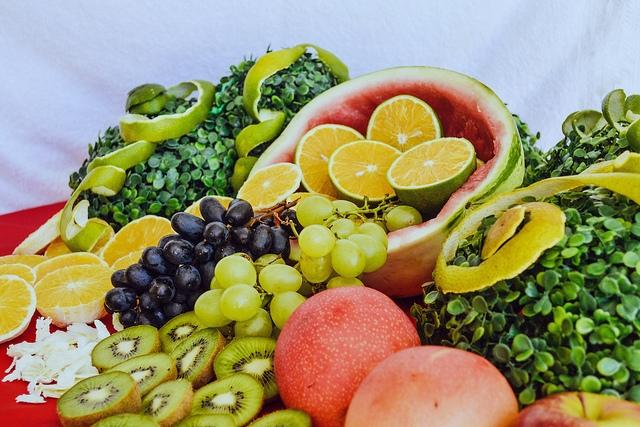apple: (274, 285, 421, 427), (345, 345, 519, 427), (510, 391, 640, 427)
grape: (346, 234, 386, 273), (220, 284, 260, 322), (194, 289, 233, 327), (214, 255, 256, 289), (258, 263, 304, 294), (270, 291, 306, 330), (331, 239, 366, 278), (296, 195, 337, 227), (298, 224, 334, 258), (300, 250, 334, 284), (235, 307, 272, 338), (171, 212, 209, 242), (141, 246, 177, 276), (254, 254, 286, 287), (385, 205, 423, 232), (358, 221, 388, 252), (124, 264, 157, 291), (104, 286, 137, 312), (200, 196, 228, 226), (163, 238, 195, 264), (173, 265, 201, 294), (149, 274, 176, 304), (250, 224, 274, 257), (224, 200, 253, 227), (268, 226, 290, 261), (280, 209, 304, 237), (328, 218, 359, 239), (215, 240, 242, 264), (332, 200, 360, 223), (203, 221, 229, 245), (198, 261, 217, 289), (326, 276, 364, 290), (230, 224, 252, 248), (186, 286, 208, 310), (157, 234, 191, 249), (134, 310, 159, 330), (194, 241, 217, 262), (250, 212, 276, 230), (139, 291, 159, 314), (165, 300, 188, 320), (296, 273, 313, 296), (110, 269, 130, 288), (151, 308, 169, 329), (119, 308, 137, 328), (230, 252, 253, 262), (210, 276, 226, 290), (228, 198, 244, 209)
kiwi: (57, 371, 142, 427), (213, 334, 280, 405), (187, 372, 264, 427), (99, 352, 178, 398), (170, 328, 228, 390), (92, 324, 162, 374), (137, 379, 193, 427), (158, 310, 210, 354), (246, 409, 312, 427), (90, 412, 160, 427), (175, 414, 236, 426)
lime: (231, 43, 352, 193), (386, 137, 476, 217), (120, 80, 216, 142), (34, 262, 116, 328), (294, 124, 366, 199), (328, 140, 402, 210), (366, 95, 444, 152), (99, 214, 179, 267), (236, 162, 302, 213), (32, 252, 108, 288), (183, 195, 234, 241), (286, 192, 340, 212), (0, 263, 38, 287), (1, 254, 49, 268)
orange: (387, 136, 478, 222), (328, 139, 402, 218), (294, 124, 366, 200), (33, 263, 116, 328), (366, 95, 444, 153), (99, 214, 179, 267), (236, 162, 302, 215), (44, 216, 115, 258), (32, 252, 109, 287), (0, 274, 37, 344), (183, 195, 234, 221), (0, 264, 36, 287), (110, 250, 144, 270), (1, 254, 48, 268)
watermelon: (247, 65, 524, 300), (344, 346, 518, 427), (506, 391, 640, 426)
